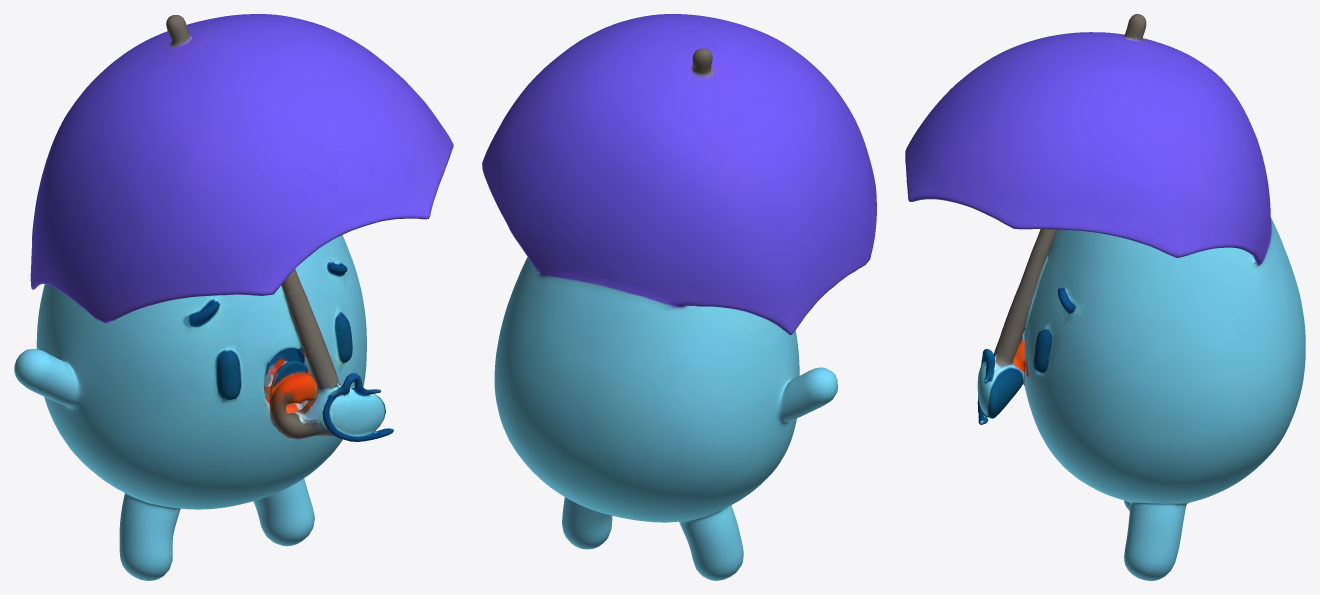
The model's file is walter-transformed.glb.
The picture shows the model from 3 angles, left to right: view 1: azimuth 30°, elevation 25°; view 2: azimuth 150°, elevation 25°; view 3: azimuth 270°, elevation 25°; orthographic projection. The views are drawn at different scales.
Parts seen in each view (by area): view 1: model; view 2: model; view 3: model.
Boxes of the visible parts, x1,y1,x2,y2 form: model: (14, 14, 453, 580); model: (482, 14, 876, 580); model: (905, 14, 1305, 580).
Bounding box in the file's own units: 1.27 × 1.84 × 1.3.
Materials: 1 (1 with a texture image).
